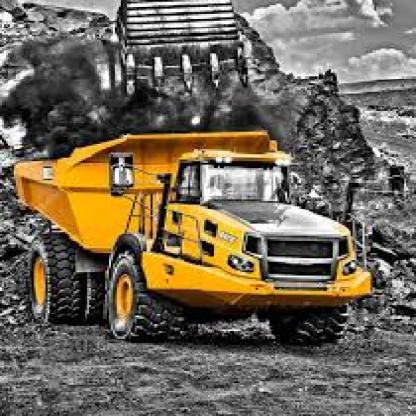dump_truck: (18, 128, 386, 364)
